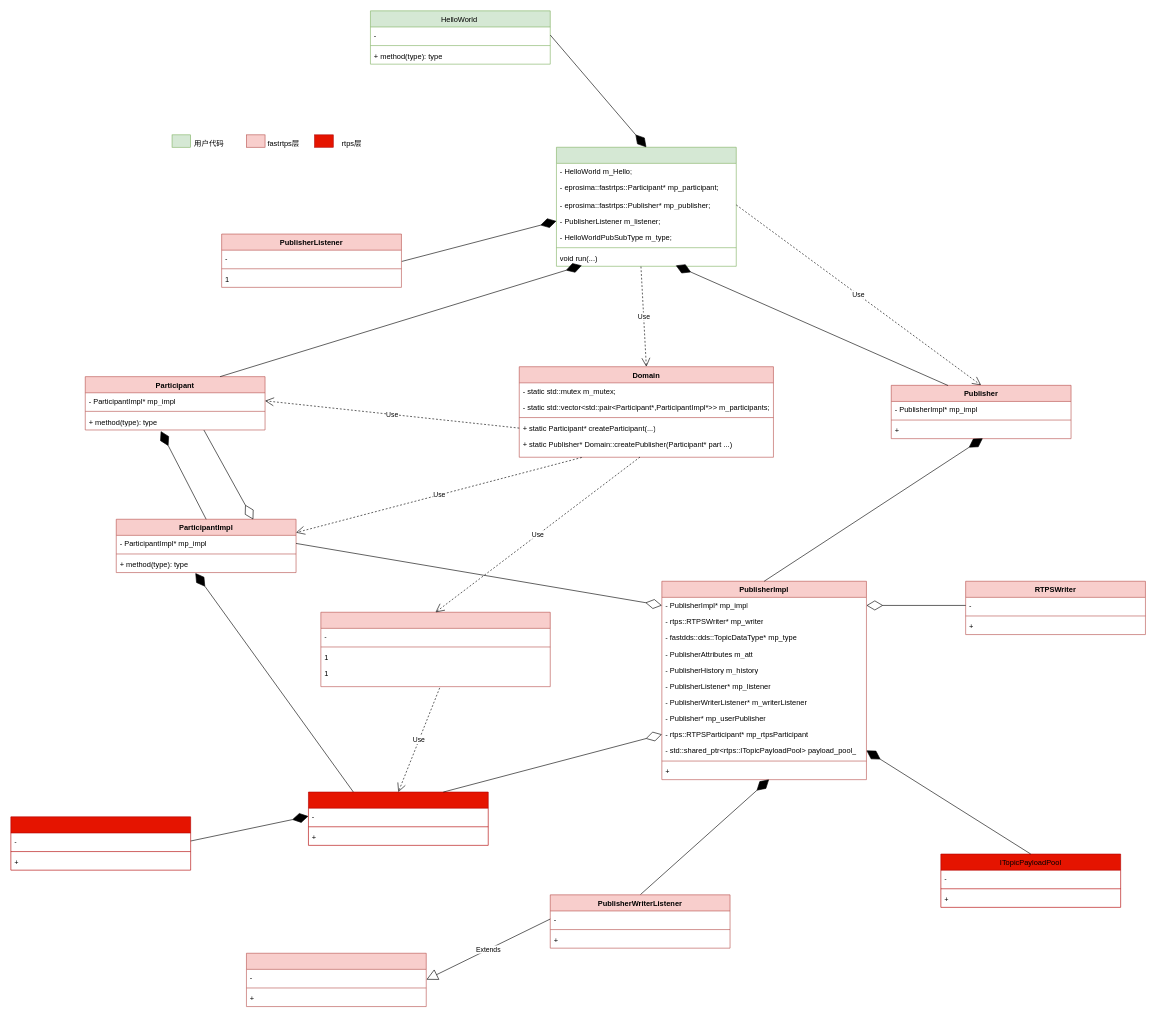
Some shapes in this 1156 by 1019 pixel diagram are drawn without their labels. The shapes that lost their labels are listed below. From the top down, each one's box as (x1, y1, x2, y2) in pixels, then its label:
(556, 147, 736, 266): HelloWorldPublisher
(320, 612, 550, 687): RTPSDomain
(308, 791, 488, 845): RTPSParticipant
(10, 816, 191, 870): RTPSParticipantImpl
(246, 953, 426, 1007): WriterListener
